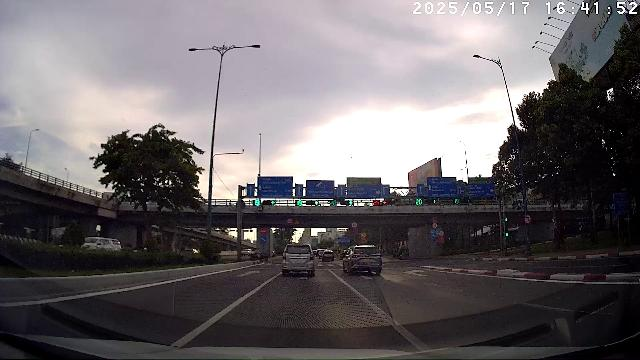123a-cam-re-trai: (524, 214, 532, 223)
